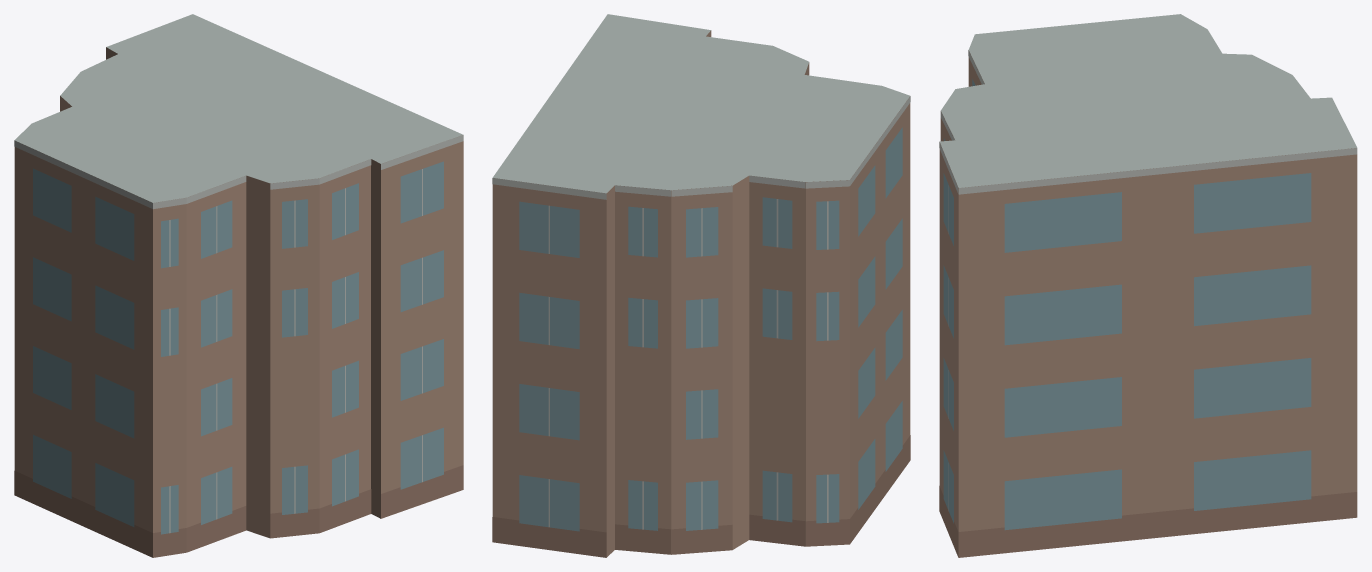
The model's file is survey-upis-32585996.glb.
The picture shows the model from 3 angles, left to right: view 1: azimuth 30°, elevation 25°; view 2: azimuth 150°, elevation 25°; view 3: azimuth 270°, elevation 25°; orthographic projection. The views are drawn at different scales.
Visible parts, largest first — view 1: survey-upis-32585996.tmp; view 2: survey-upis-32585996.tmp; view 3: survey-upis-32585996.tmp.
Part boxes in pixels (left/top/right/bottom): survey-upis-32585996.tmp: left=14, top=14, right=463, bottom=557; survey-upis-32585996.tmp: left=492, top=14, right=910, bottom=557; survey-upis-32585996.tmp: left=939, top=14, right=1357, bottom=557.
Size of the model in its own units: 13.84 by 13.7 by 14.04.
